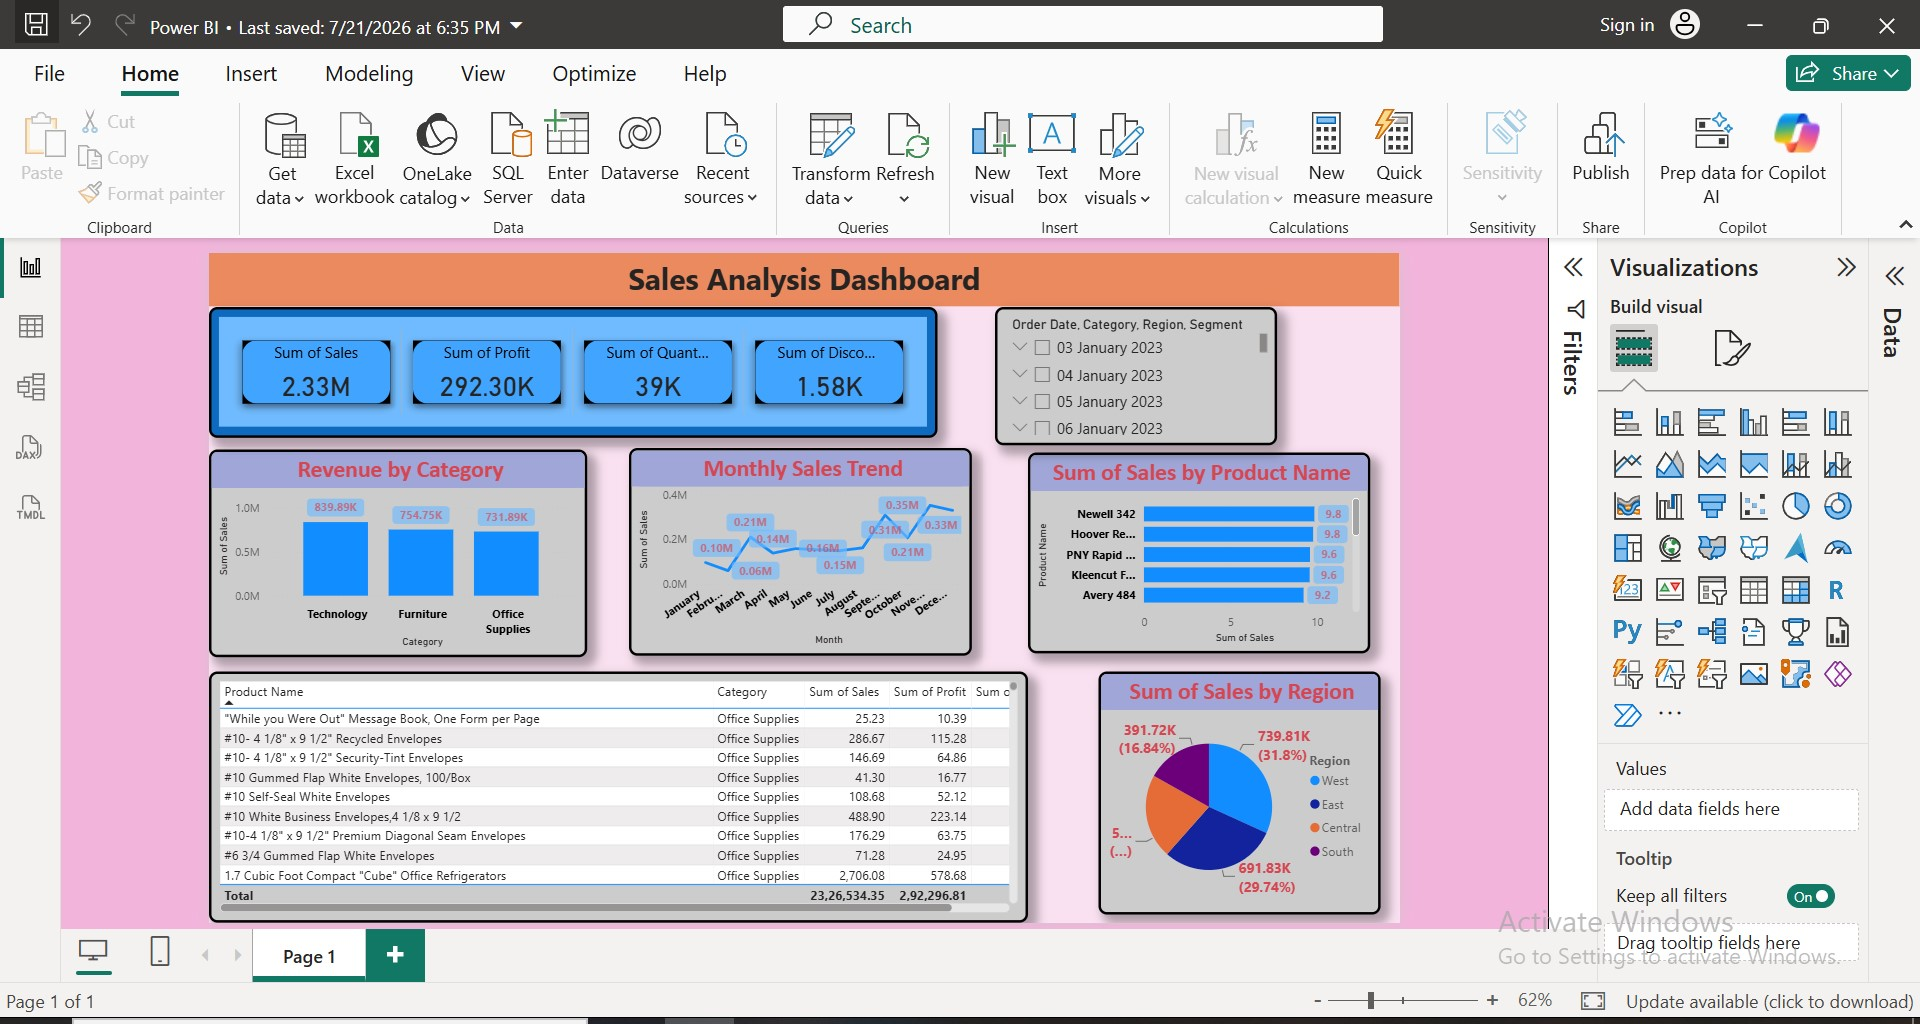

The page's visual inventory and layout, read from the dashboard file:
{"tool":"powerbi","page":{"name":"Page 1","canvas":[1280,720],"ordinal":0},"visuals":[{"type":"clusteredColumnChart","title":"Revenue by Category","fields":{"Category":["Orders.Category"],"Y":["Sum(Orders.Sales)"]},"box":[0,211,406.4,223.5],"z":0},{"type":"pieChart","fields":{"Category":["Orders.Region"],"Y":["Sum(Orders.Sales)"]},"box":[956.5,450.1,303.2,261],"z":1000},{"type":"textbox","box":[0,0,1280.3,57.6],"z":2000},{"type":"cardVisual","fields":{"Data":["Sum(Orders.Sales)","Sum(Orders.Profit)","Sum(Orders.Quantity)","Sum(Orders.Discount)"]},"box":[0,57.8,783.1,140.7],"z":3000},{"type":"lineChart","title":"Monthly Sales Trend","fields":{"Category":["Orders.Order Date.Variation.Date Hierarchy.Month"],"Y":["Sum(Orders.Sales)"]},"box":[451.7,209.4,368.9,223.5],"z":4000},{"type":"barChart","fields":{"Category":["Orders.Product Name"],"Y":["Sum(Orders.Sales)"]},"box":[881,214.3,368.3,215.9],"z":5000},{"type":"tableEx","fields":{"Values":["Orders.Product Name","Orders.Category","Sum(Orders.Sales)","Sum(Orders.Profit)","Sum(Orders.Quantity)"]},"box":[0,450.8,881,269.8],"z":6000},{"type":"slicer","fields":{"Values":["Orders.Order Date","Orders.Category","Orders.Region","Orders.Segment"]},"box":[845.6,57.8,303.2,148.5],"z":7000}]}

Visuals, with their boxes on the page's 1280x720 design canvas (x1, y1, x2, y2). These are canvas units, not pixel positions in the 1920x1024 screenshot, which may show the page scaled, cropped or inside an application window:
"Revenue by Category" clusteredColumnChart: 0/211/406/434
pieChart - Orders.Region x Sum(Orders.Sales): 956/450/1260/711
textbox: 0/0/1280/58
cardVisual - Sum(Orders.Sales) x Sum(Orders.Profit): 0/58/783/198
"Monthly Sales Trend" lineChart: 452/209/821/433
barChart - Orders.Product Name x Sum(Orders.Sales): 881/214/1249/430
tableEx - Orders.Product Name x Orders.Category: 0/451/881/721
slicer - Orders.Order Date x Orders.Category: 846/58/1149/206
